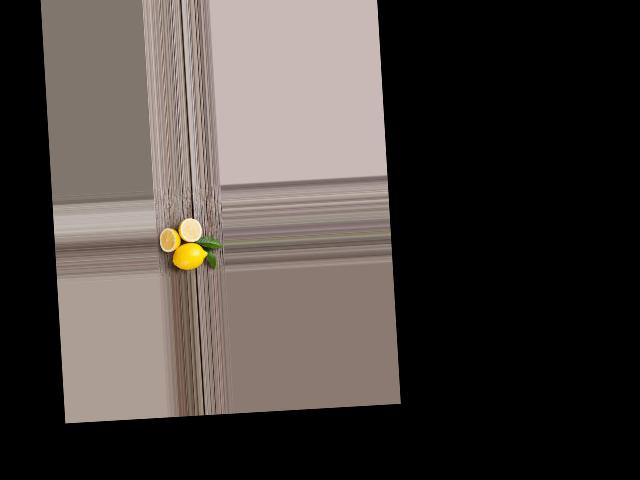lemon: (171, 239, 211, 268)
